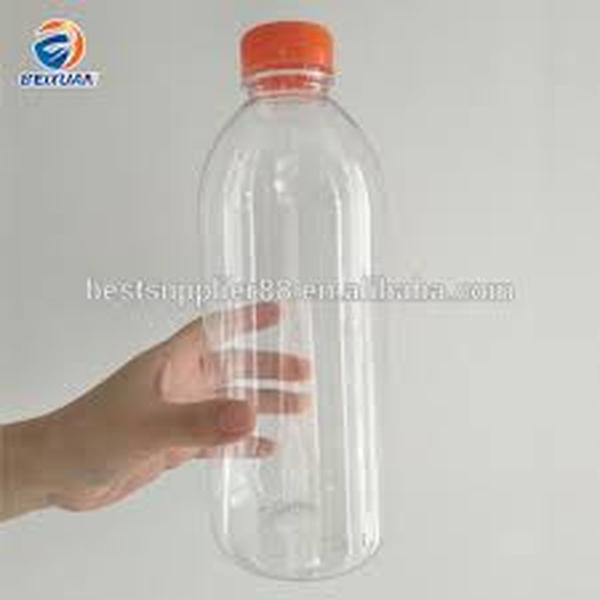tutuma: (196, 4, 396, 584)
